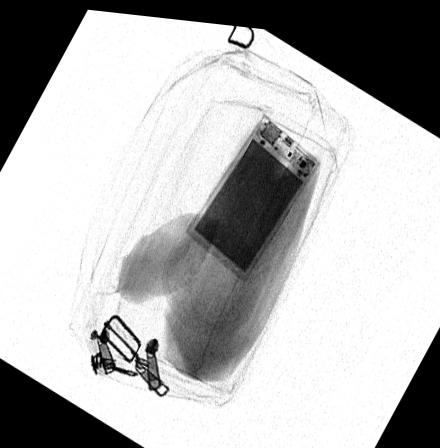Powerbank: (184, 107, 320, 276)
